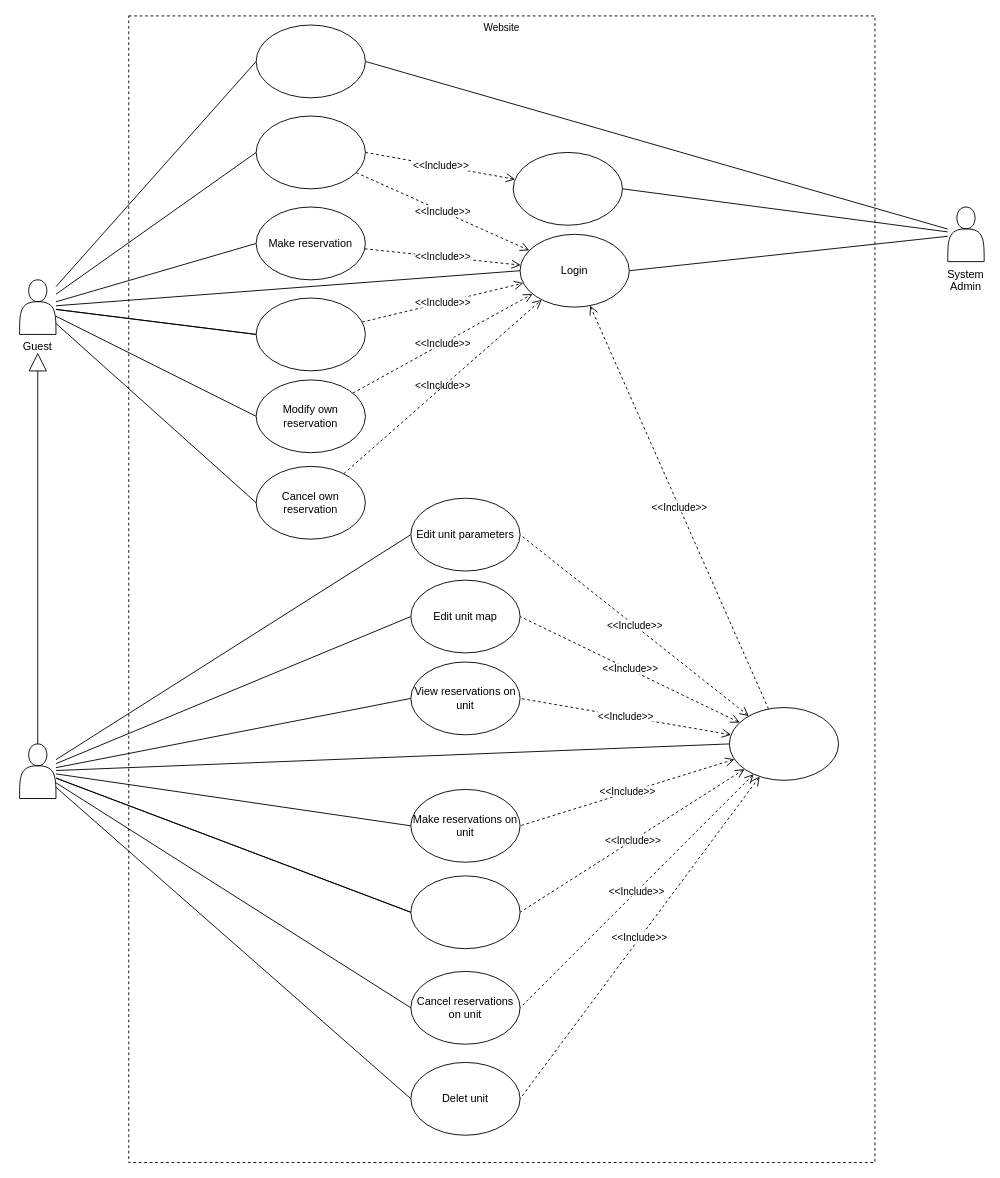
The diagram is 1000 pixels wide and 1178 high, and some of its shapes have lost their labels. The box of each missing label's shape, as (x1, y1, x2, y2) in pixels:
Business Owner: (19, 743, 56, 799)
Confirm new unit: (512, 152, 622, 225)
Create new unit: (255, 115, 365, 189)
Modify reservations on unit: (410, 875, 520, 949)
Own unit: (728, 707, 839, 780)
View own reservation: (255, 297, 365, 371)
View units and reservables: (255, 24, 365, 98)
